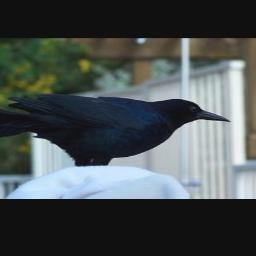Crow: (0, 92, 232, 165)
